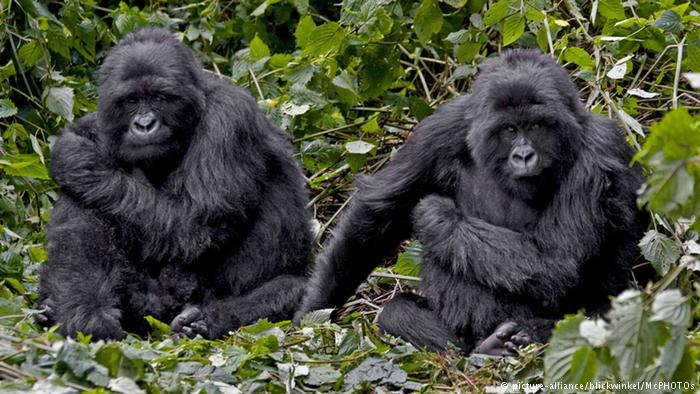Goriila: (342, 24, 681, 386), (31, 20, 343, 373)
